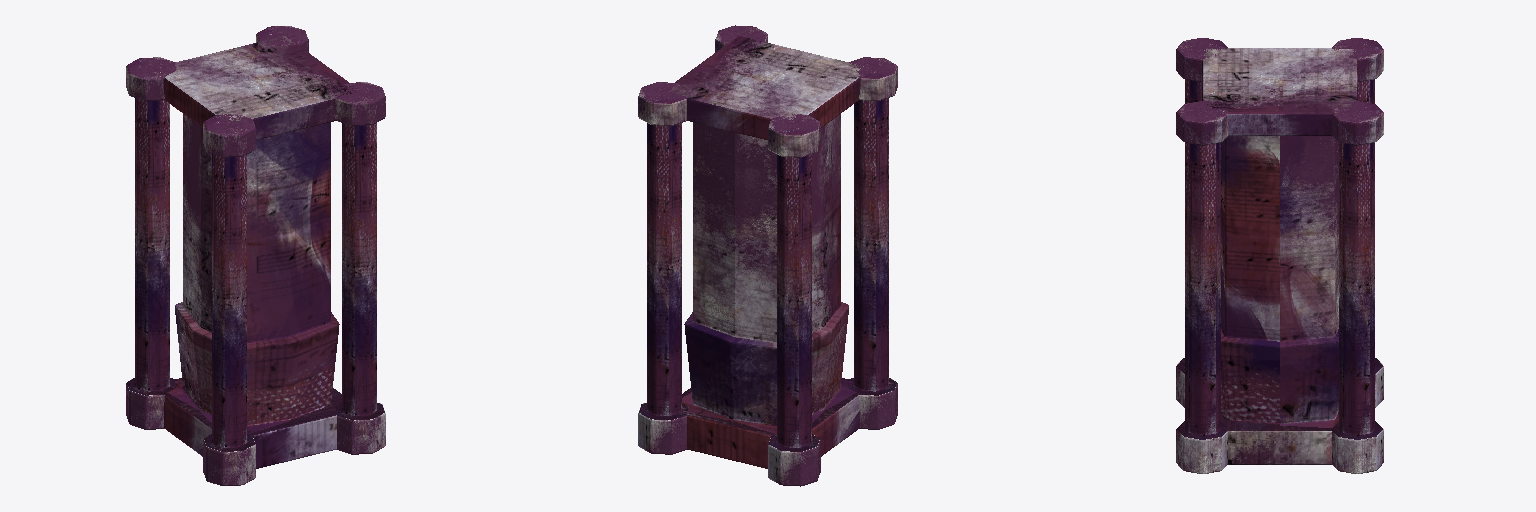
3 renders of one model, left to right at view 1: azimuth 30°, elevation 25°; view 2: azimuth 150°, elevation 25°; view 3: azimuth 270°, elevation 25°, orthographic.
Parts seen in each view (by area): view 1: MANOR_PILLAR_BIG_001; view 2: MANOR_PILLAR_BIG_001; view 3: MANOR_PILLAR_BIG_001.
Boxes of the visible parts, box(x1,y1,x2,y2) form: MANOR_PILLAR_BIG_001: box(126, 26, 385, 485); MANOR_PILLAR_BIG_001: box(638, 25, 897, 486); MANOR_PILLAR_BIG_001: box(1176, 38, 1383, 473).
Bounding box in the file's own units: 1.57 × 3 × 1.6.
2 materials, 2 textured.